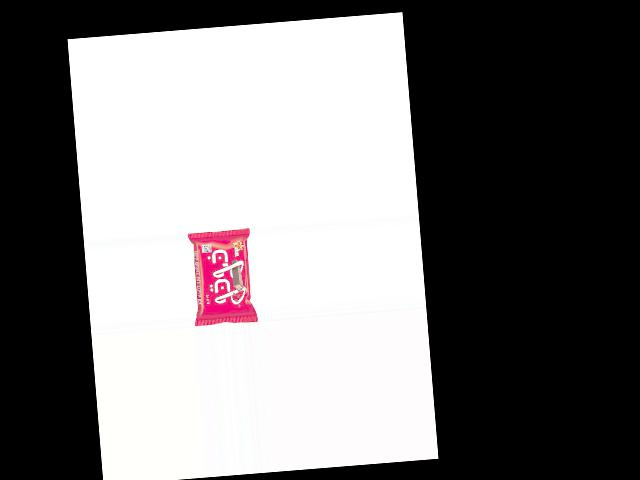chocolate: (186, 228, 257, 326)
